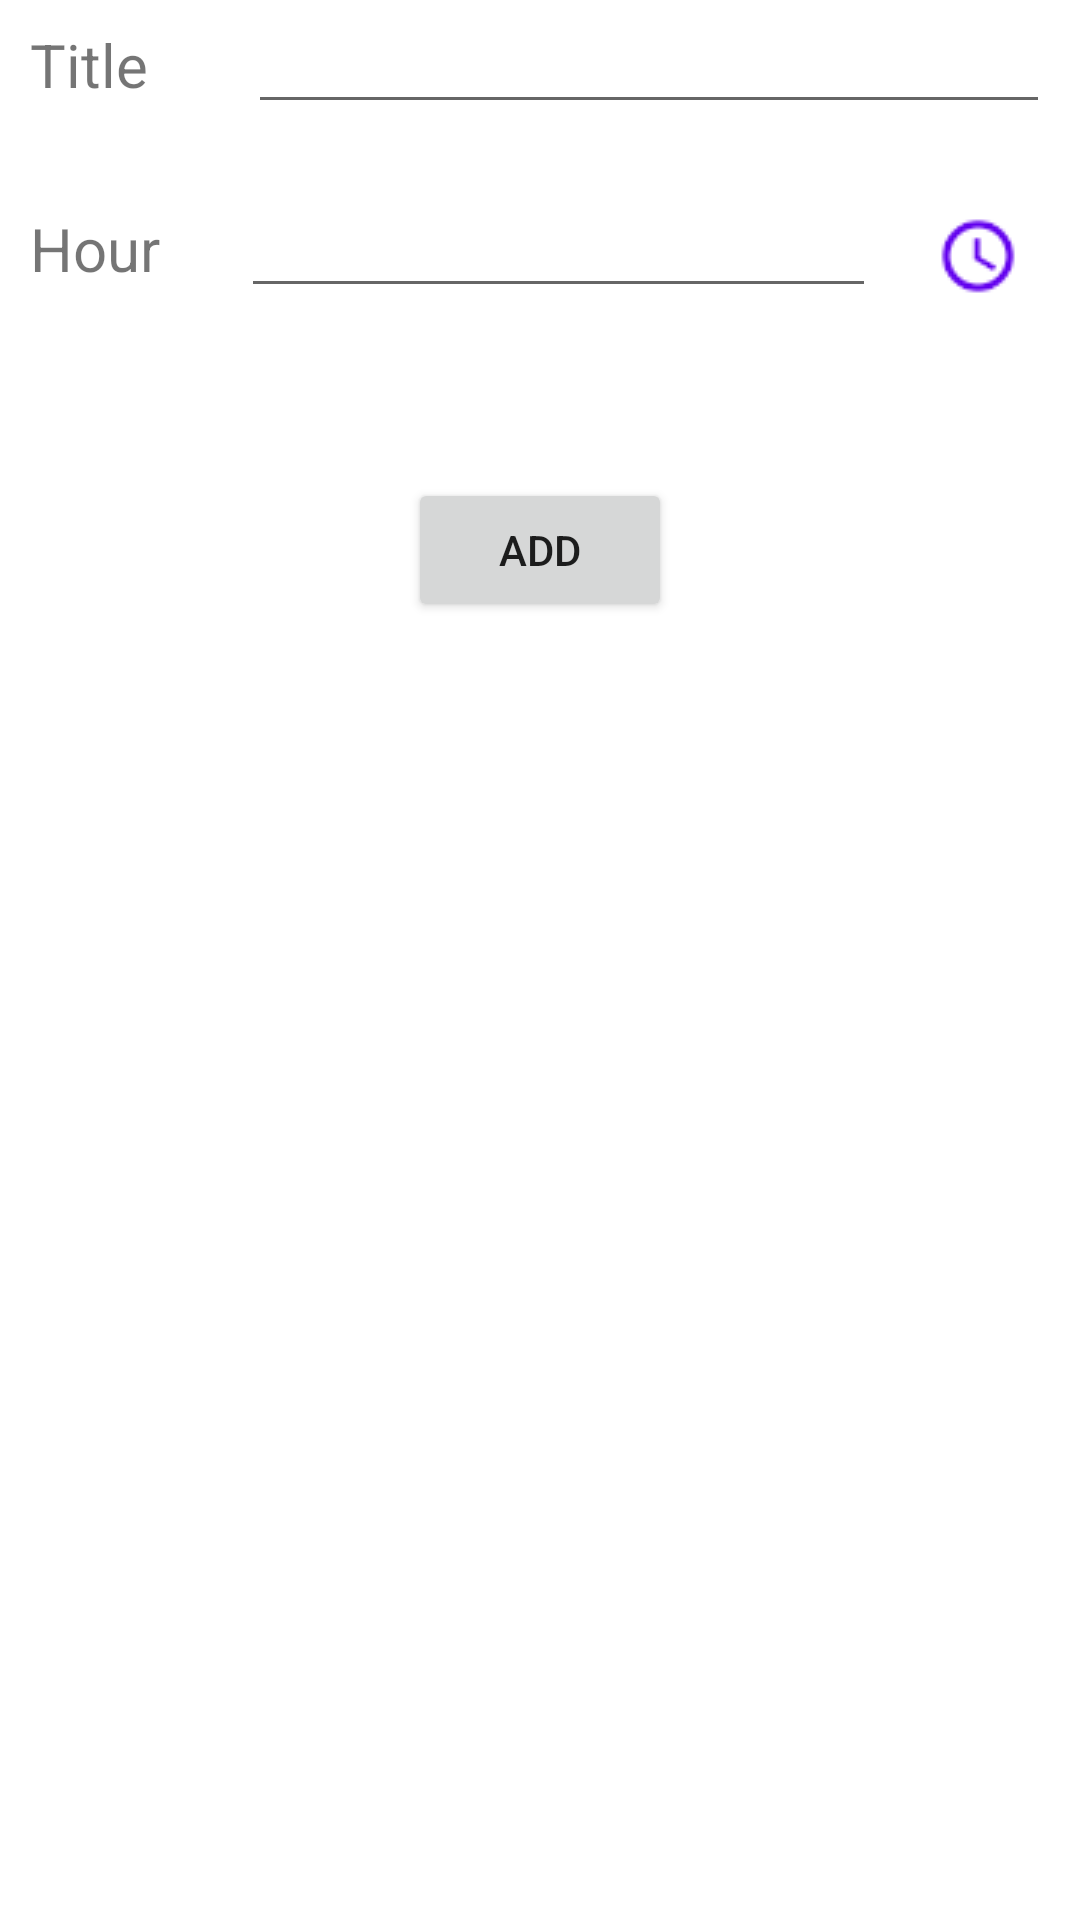

Named icons in this screenshot (1080 × 1920) and their centers, (x=x, y=y):
access time: (x=978, y=256)
